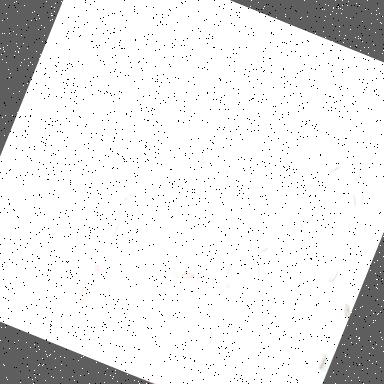pbw: (152, 243, 178, 270), (170, 258, 190, 286), (87, 205, 111, 228), (218, 251, 238, 278), (105, 216, 124, 244), (323, 266, 344, 290), (160, 261, 180, 286), (215, 142, 237, 164), (87, 258, 110, 279), (270, 64, 294, 84), (190, 151, 212, 172), (347, 160, 367, 183), (100, 74, 119, 98), (224, 95, 245, 116), (218, 275, 238, 297), (253, 237, 272, 260), (180, 196, 198, 219), (337, 300, 354, 324), (324, 158, 344, 178), (248, 288, 266, 310), (108, 190, 130, 207), (220, 158, 238, 178), (152, 204, 172, 222), (314, 350, 330, 372), (148, 102, 167, 120), (177, 267, 195, 286), (188, 264, 206, 283), (293, 211, 313, 228), (345, 189, 362, 209), (214, 171, 234, 188), (264, 180, 280, 200), (235, 246, 250, 267), (177, 83, 192, 104), (194, 272, 208, 293), (186, 273, 200, 292), (127, 182, 140, 202), (124, 182, 134, 197)
